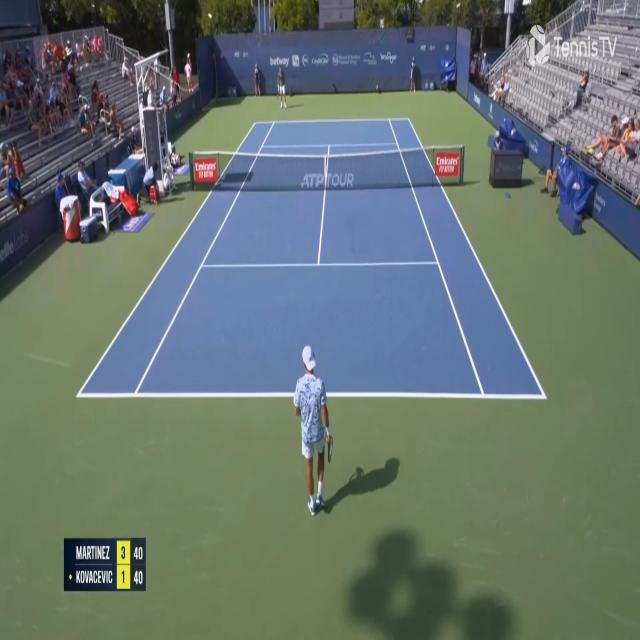tennis-player: (292, 340, 336, 520), (276, 64, 288, 109)
